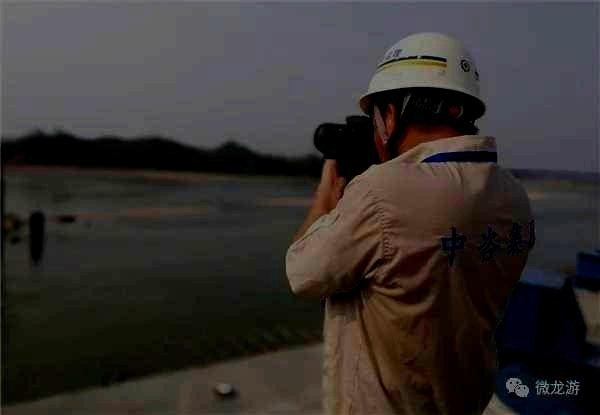helmet: (359, 31, 487, 163)
